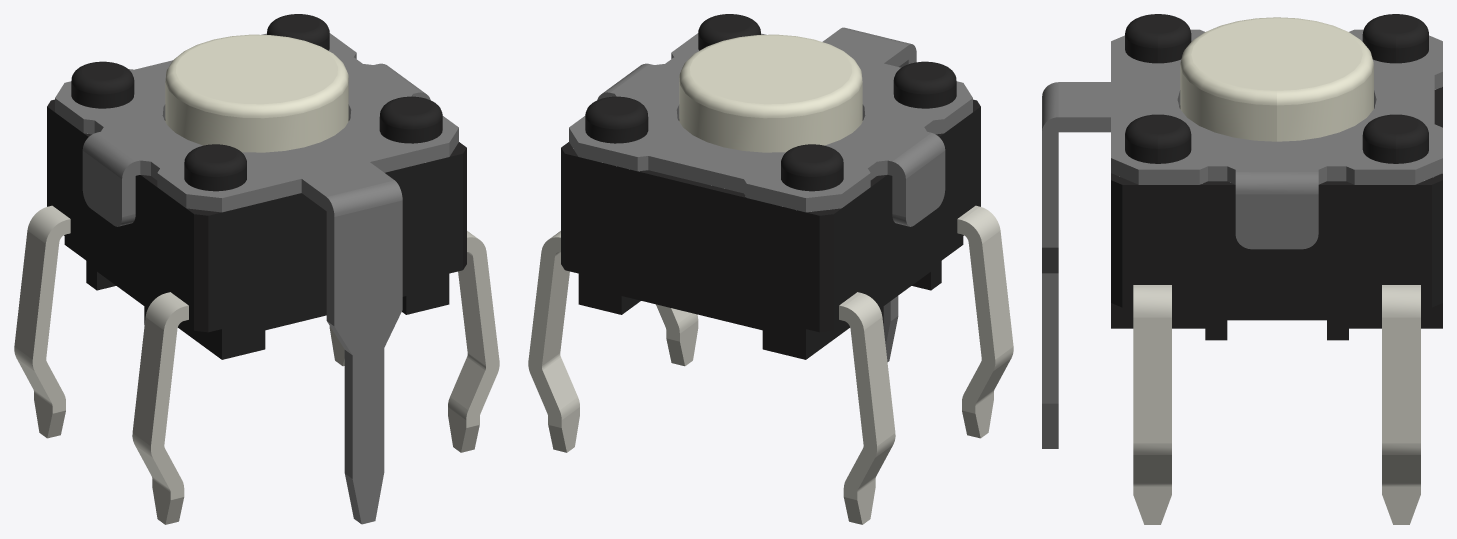
File: kc-sw_th_tactile_omron_b3f-110x.glb
3 views of the same model, side by side, from view 1: azimuth 30°, elevation 25°; view 2: azimuth 150°, elevation 25°; view 3: azimuth 270°, elevation 25° (orthographic). The views are drawn at different scales.
Parts seen in each view (by area): view 1: 0_0_0_0, 0.25_0.25_0.25_0, 0.6666666666666666_0.6666666666666666_0.5833333333333334_0.8, 0.75_0.75_0.6666666666666666_0; view 2: 0_0_0_0, 0.25_0.25_0.25_0, 0.6666666666666666_0.6666666666666666_0.5833333333333334_0.8, 0.75_0.75_0.6666666666666666_0; view 3: 0_0_0_0, 0.25_0.25_0.25_0, 0.75_0.75_0.6666666666666666_0, 0.6666666666666666_0.6666666666666666_0.5833333333333334_0.8.
Boxes of the visible parts, bbox=[...] form: 0_0_0_0: bbox=[47, 14, 466, 359]; 0.25_0.25_0.25_0: bbox=[55, 33, 458, 524]; 0.6666666666666666_0.6666666666666666_0.5833333333333334_0.8: bbox=[14, 205, 499, 524]; 0.75_0.75_0.6666666666666666_0: bbox=[165, 34, 348, 152]; 0_0_0_0: bbox=[561, 14, 980, 359]; 0.25_0.25_0.25_0: bbox=[569, 27, 972, 361]; 0.6666666666666666_0.6666666666666666_0.5833333333333334_0.8: bbox=[528, 205, 1013, 524]; 0.75_0.75_0.6666666666666666_0: bbox=[679, 34, 862, 152]; 0_0_0_0: bbox=[1111, 14, 1442, 340]; 0.25_0.25_0.25_0: bbox=[1042, 29, 1442, 448]; 0.75_0.75_0.6666666666666666_0: bbox=[1180, 17, 1373, 141]; 0.6666666666666666_0.6666666666666666_0.5833333333333334_0.8: bbox=[1133, 285, 1420, 524].
Size of the model in its own units: 0.7672 by 0.78 by 0.725.
